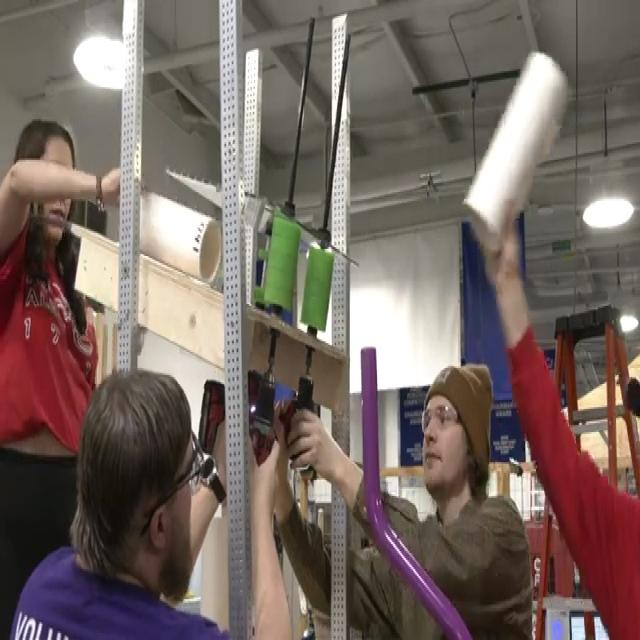Coral: (461, 46, 569, 252), (139, 191, 222, 283)
